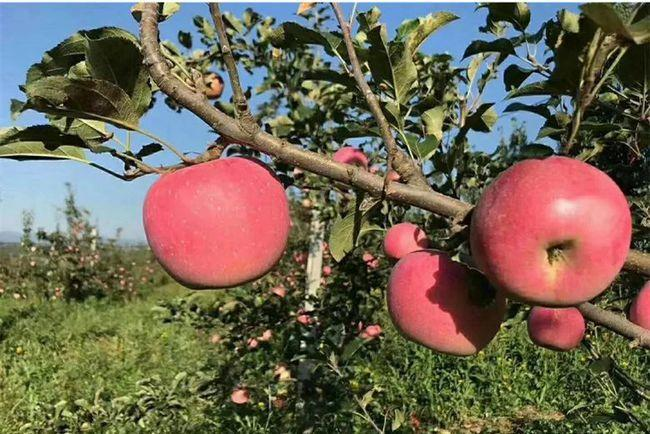apple: (474, 154, 637, 307), (139, 152, 292, 289), (387, 244, 502, 358), (528, 299, 586, 351)
